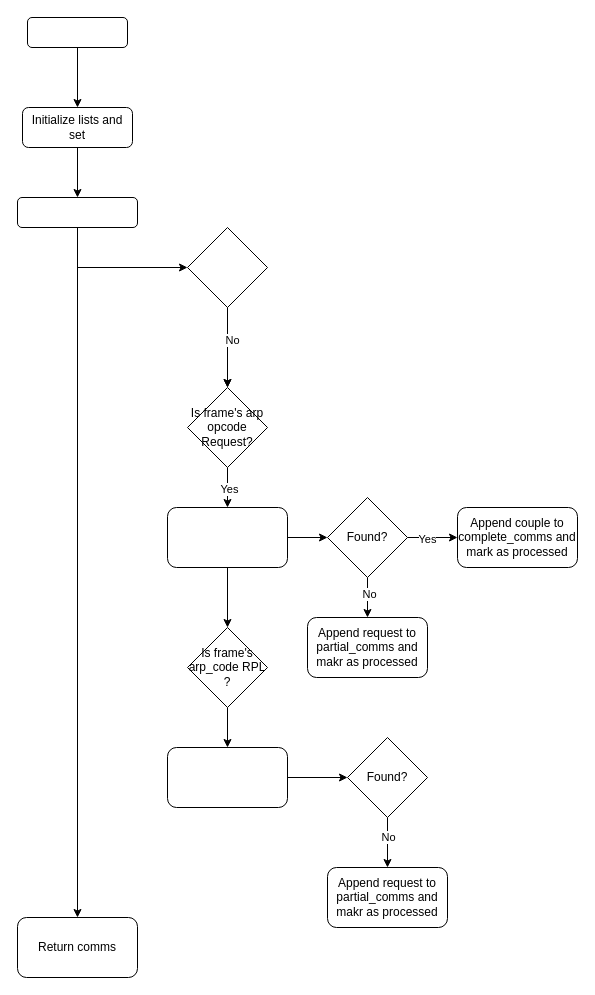
This 595x995 diagram has some shape labels left out. The box of each missing label's shape, as (x1, y1, x2, y2) in pixels:
For each frame in frames: (16, 196, 138, 228)
Is frame in processed frames?: (186, 226, 268, 308)
Search for corresponding REQ frame: (166, 746, 288, 808)
Search for corresponding RPL frame: (166, 506, 288, 568)
Start: (26, 16, 128, 48)
